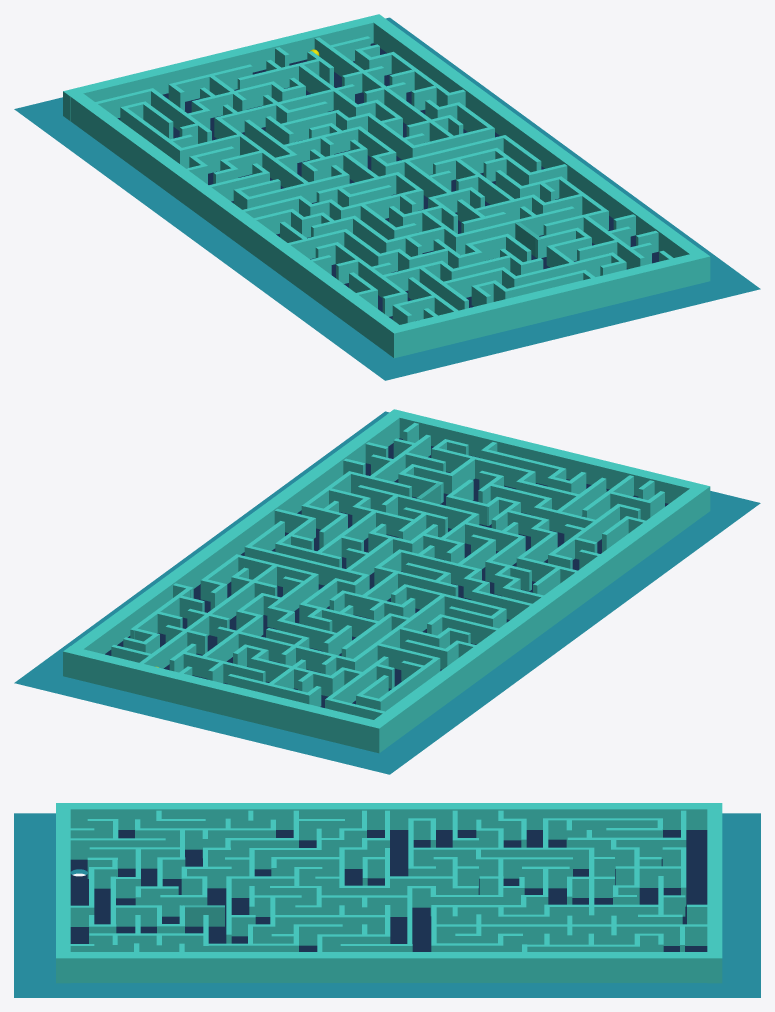
File: GameArduino1.fbx
3 renders of one model, top to bottom at view 1: azimuth 30°, elevation 25°; view 2: azimuth 150°, elevation 25°; view 3: azimuth 270°, elevation 25°, orthographic.
Parts seen in each view (by area): view 1: Cube.162, Cube.112, Plane.001, Cube.017, Cube.109, Cube.143, Cube.075, Cube.158, Plane.002, Cube.053, Cube.057, Cube.127 (+1 smaller); view 2: Cube.162, Cube.112, Plane.001, Cube.017, Cube.109, Cube.143, Cube.075, Plane.002, Cube.158, Cube.053, Cube.057, Cube.115 (+2 smaller); view 3: Cube.162, Cube.112, Plane.001, Plane.002, Cube.017, Cube.109, Cube.143, Cube.075, Cube.057, Cube.158, Cube.053, Cube.127 (+3 smaller).
Boxes of the visible parts, x1,y1,x2,y2 form: Cube.162: (120, 36, 626, 316); Cube.112: (63, 14, 710, 358); Plane.001: (14, 17, 760, 380); Cube.017: (433, 148, 651, 268); Cube.109: (243, 139, 423, 239); Cube.143: (95, 64, 305, 144); Cube.075: (280, 221, 531, 272); Cube.158: (355, 44, 465, 110); Plane.002: (117, 43, 658, 319); Cube.053: (471, 269, 595, 306); Cube.057: (392, 277, 458, 324); Cube.127: (186, 146, 234, 184); Cube.162: (111, 439, 640, 711); Cube.112: (63, 409, 710, 753); Plane.001: (14, 411, 760, 774); Cube.017: (274, 434, 447, 567); Cube.109: (329, 534, 532, 620); Cube.143: (228, 644, 394, 719); Cube.075: (446, 479, 577, 595); Plane.002: (105, 438, 668, 707); Cube.158: (123, 583, 204, 653); Cube.053: (481, 442, 586, 493); Cube.057: (582, 475, 664, 520); Cube.115: (427, 614, 498, 644); Cube.162: (89, 810, 707, 951); Cube.112: (56, 803, 722, 983); Plane.001: (14, 813, 760, 997); Plane.002: (70, 830, 707, 951); Cube.017: (89, 886, 390, 951); Cube.109: (271, 810, 478, 895); Cube.143: (567, 810, 686, 906); Cube.075: (160, 810, 344, 916); Cube.057: (70, 819, 165, 859); Cube.158: (522, 933, 663, 951); Cube.053: (70, 857, 117, 926); Cube.127: (498, 810, 526, 847).
Bounding box in the file's own units: 2115 × 171 × 3619.
